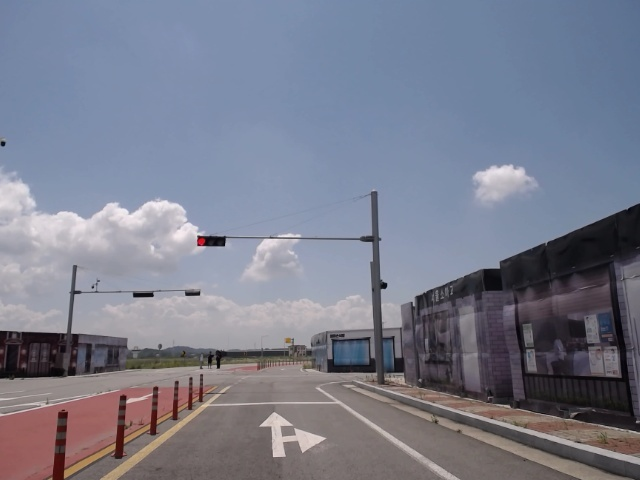red_3: (195, 235, 228, 248)
